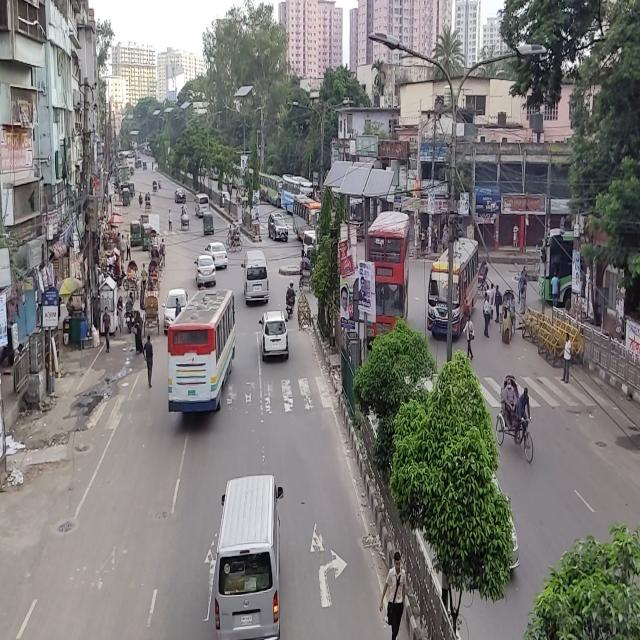black: (268, 212, 290, 243)
silver: (216, 476, 282, 640), (162, 288, 188, 334)
white: (242, 251, 270, 302), (261, 309, 289, 358), (204, 242, 227, 269), (195, 255, 215, 286), (194, 190, 210, 216)
